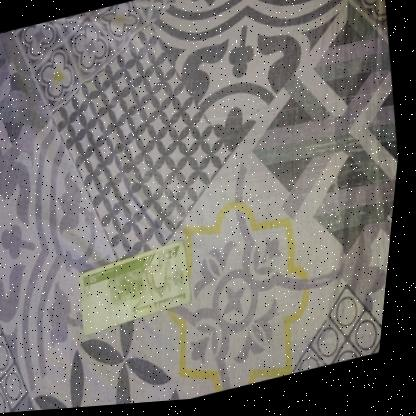fifty-back-vef: (78, 242, 204, 338)
